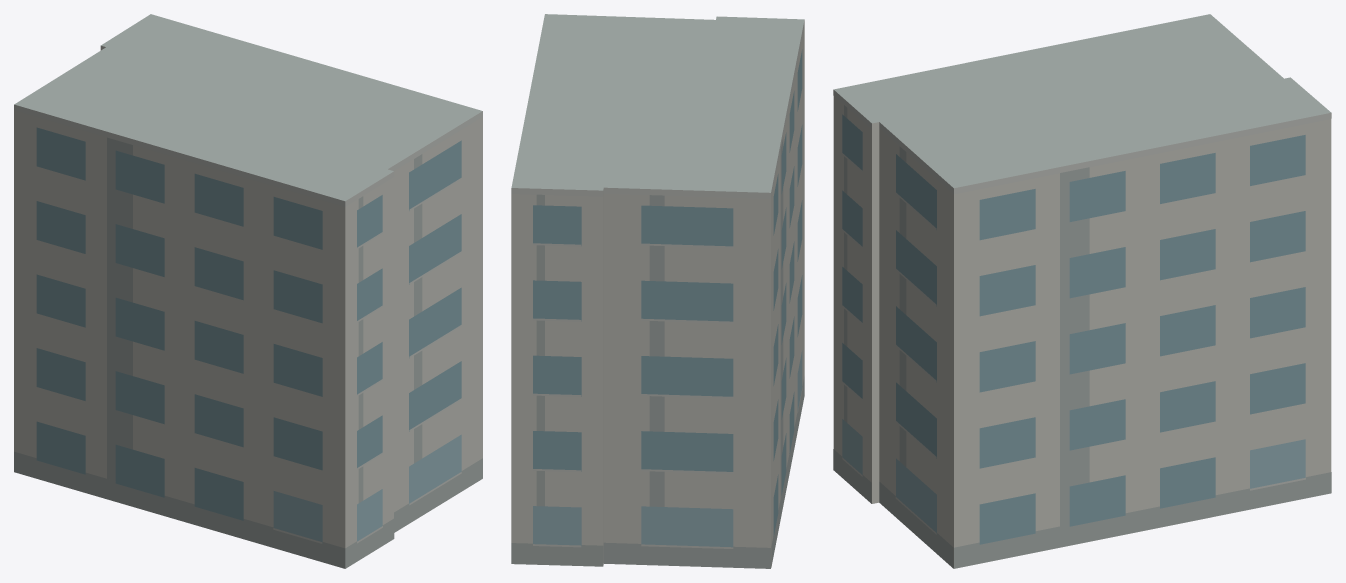
File: survey-upis-32931632.glb
The picture shows the model from 3 angles, left to right: view 1: azimuth 30°, elevation 25°; view 2: azimuth 150°, elevation 25°; view 3: azimuth 270°, elevation 25°; orthographic projection. The views are drawn at different scales.
Parts seen in each view (by area): view 1: survey-upis-32931632.tmp; view 2: survey-upis-32931632.tmp; view 3: survey-upis-32931632.tmp.
Part boxes in pixels (left/top/right/bottom): survey-upis-32931632.tmp: left=14, top=14, right=482, bottom=568; survey-upis-32931632.tmp: left=511, top=14, right=804, bottom=568; survey-upis-32931632.tmp: left=833, top=14, right=1331, bottom=568.
Bounding box in the file's own units: 15.03 × 15.3 × 18.15.
